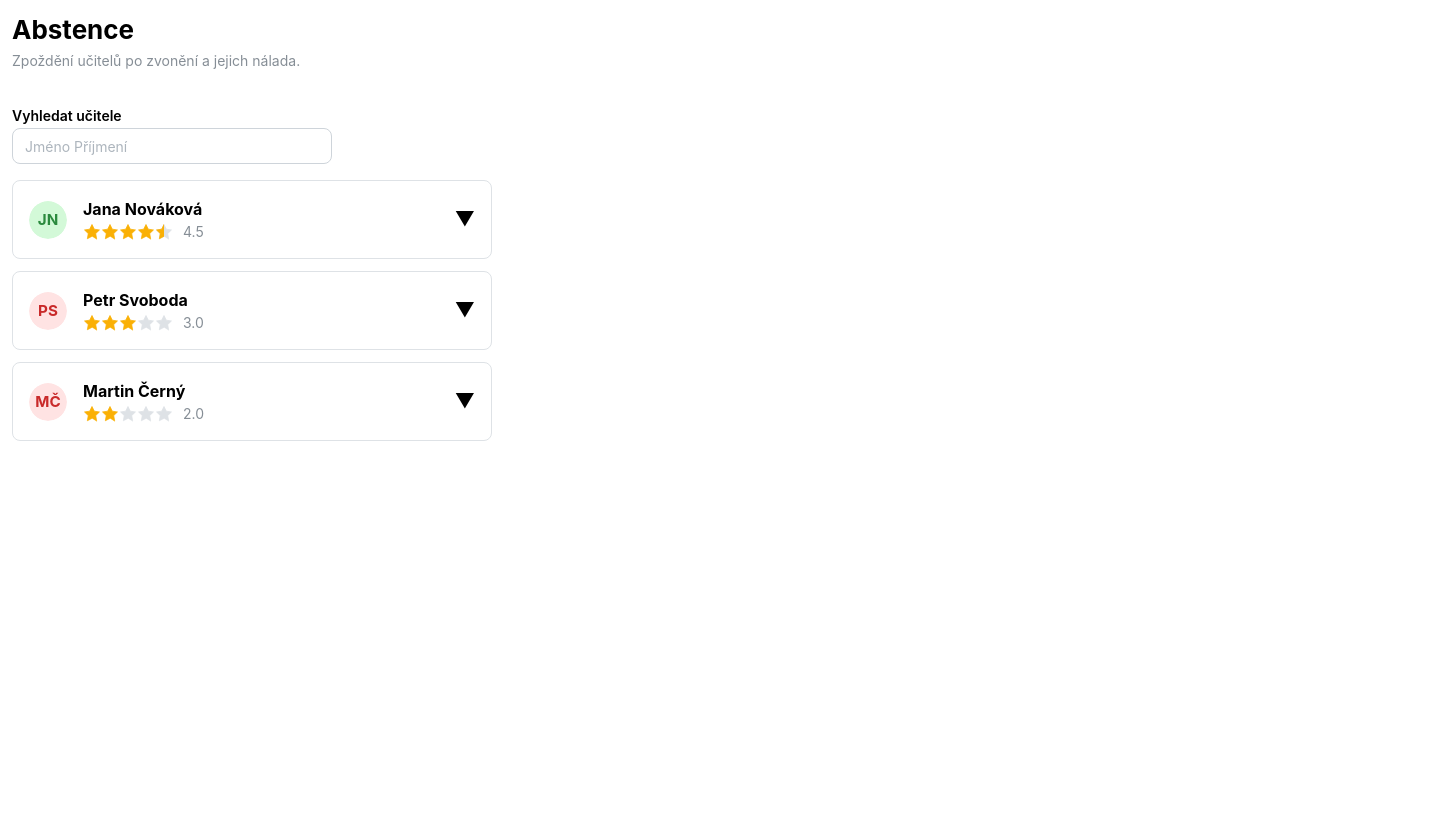
Scenario: AbstencePage oproti návrhu › mobil: řádek se rozklikne s detailem (varianta z mobilního návrhu)
Click the text "Jana Nováková".
click(143, 210)  # box 83,197 -> 202,222
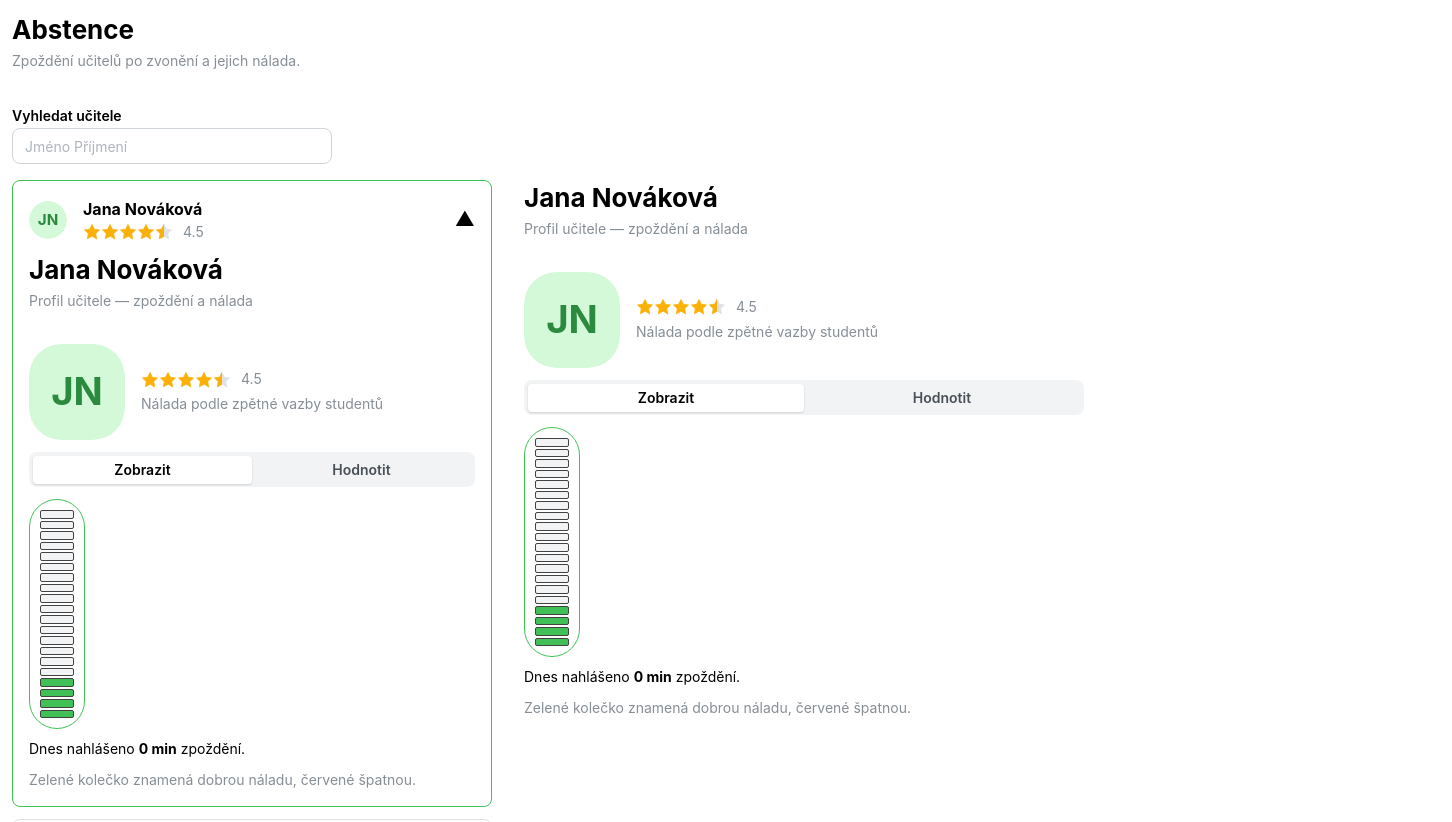
Expected: the element named "Nálada učitele: Dobrá nálada" is shown, 29,201 -> 67,239
Expected: the 2nd text "Dnes nahlášeno 0 min zpoždění." is shown, 29,740 -> 245,757
